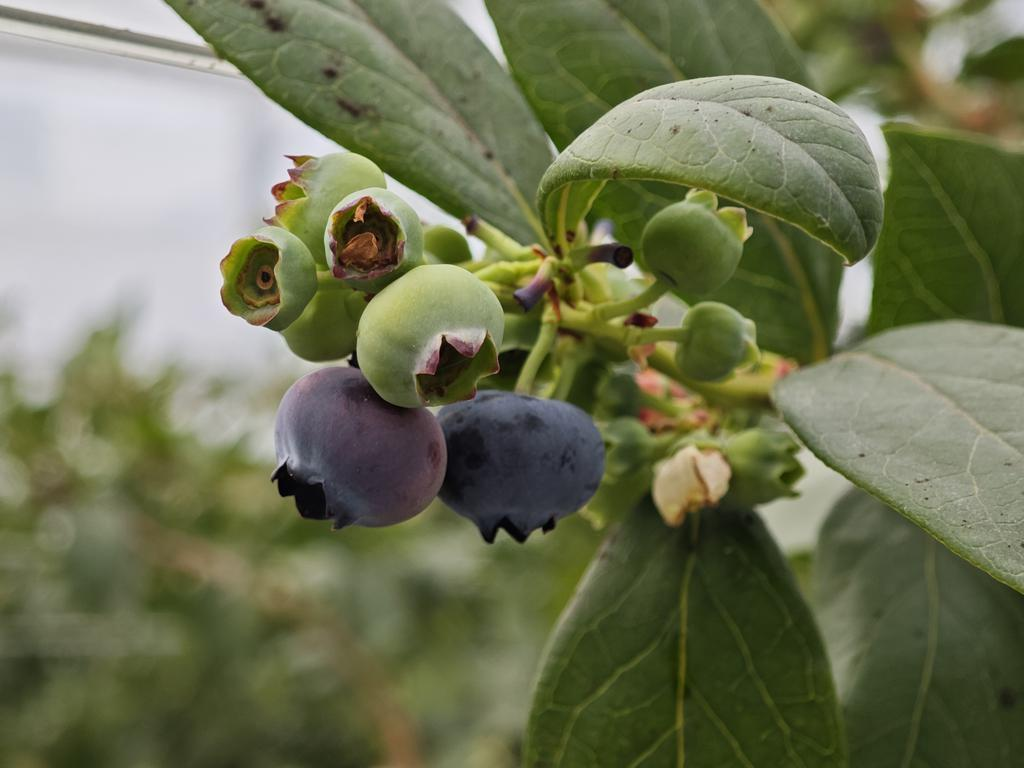RipeBlueBerry: (432, 392, 609, 544)
Semi-RipeBlueBerry: (267, 364, 452, 531)
UnripeBlueBerry: (349, 260, 508, 412)
